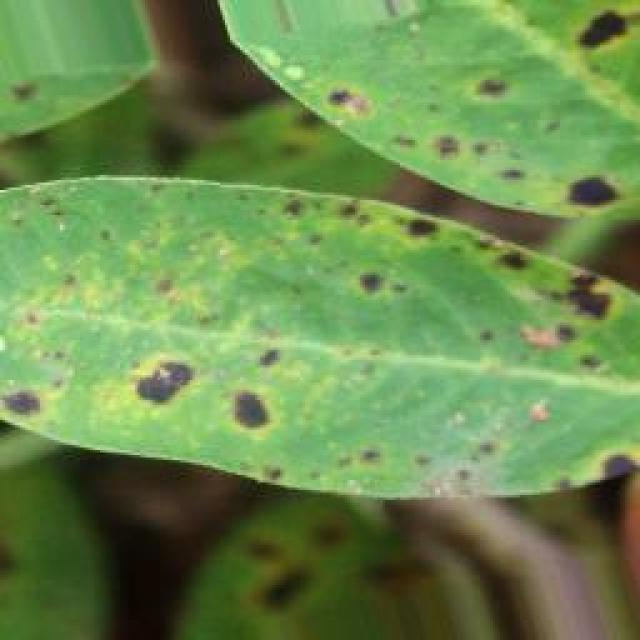Yellowish: (2, 12, 632, 640)
